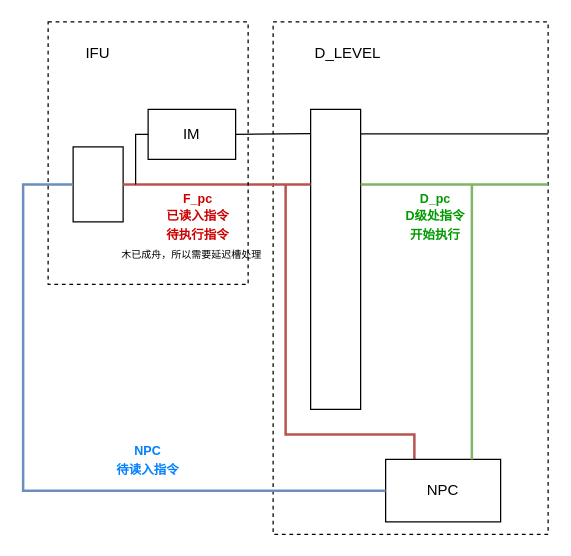
The diagram is 571 pixels wide and 556 high, and some of its shapes have lost their labels. Here are the shapes that lost their labels. From the top down, the box of each, then its label:
(72, 146, 123, 222): PC
(309, 108, 361, 409): D REG
